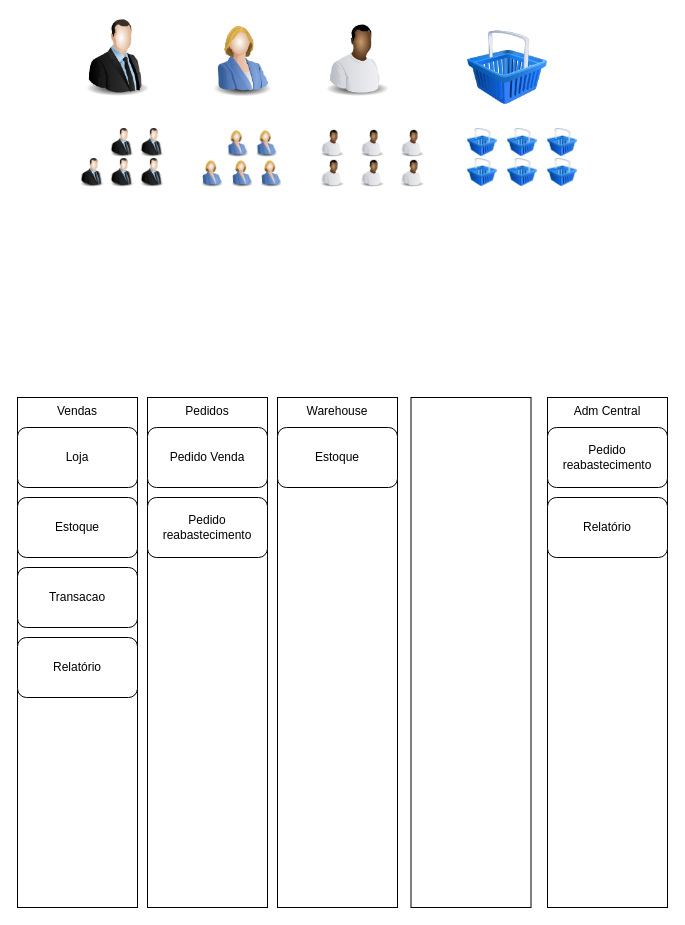
Image size: 685x925. Some labels were removed from this diagram. Each missing label, with the centre of its shape:
"AdmCentral" belongs at point (117, 57).
"Catalogo Produtos" belongs at point (470, 652).
"Cliente" belongs at point (357, 57).
"Pedido" belongs at point (507, 67).
"Vendedor" belongs at point (241, 57).
